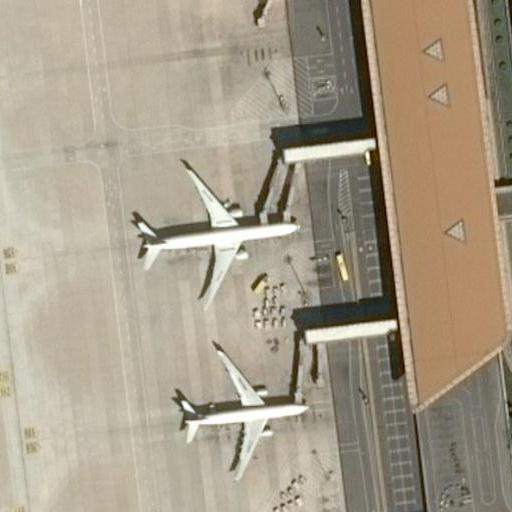Aircraft: (125, 155, 309, 311), (161, 346, 322, 475)
